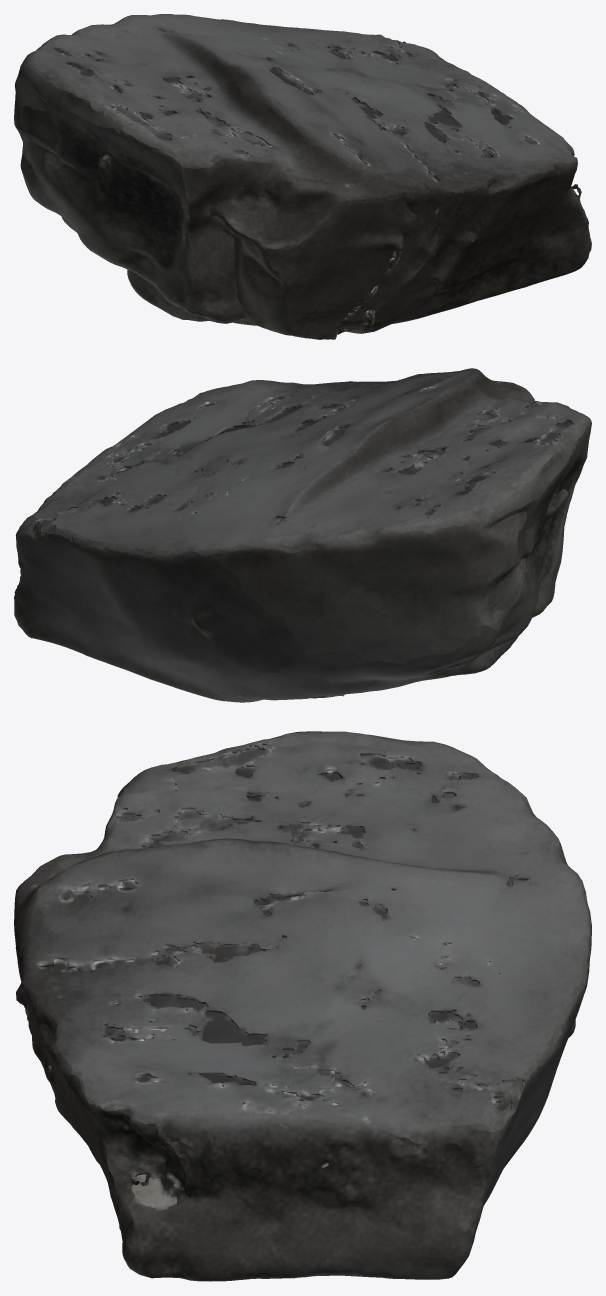
The picture shows the model from 3 angles, top to bottom: view 1: azimuth 30°, elevation 25°; view 2: azimuth 150°, elevation 25°; view 3: azimuth 270°, elevation 25°; orthographic projection. The views are drawn at different scales.
Parts seen in each view (by area): view 1: world; view 2: world; view 3: world.
Boxes of the visible parts, box(x1,y1,x2,y2) form: world: box(14, 14, 591, 339); world: box(14, 368, 591, 702); world: box(14, 731, 591, 1281).
Size of the model in its own units: 0.45 by 0.2229 by 0.3964.
Materials: 1 (1 with a texture image).
